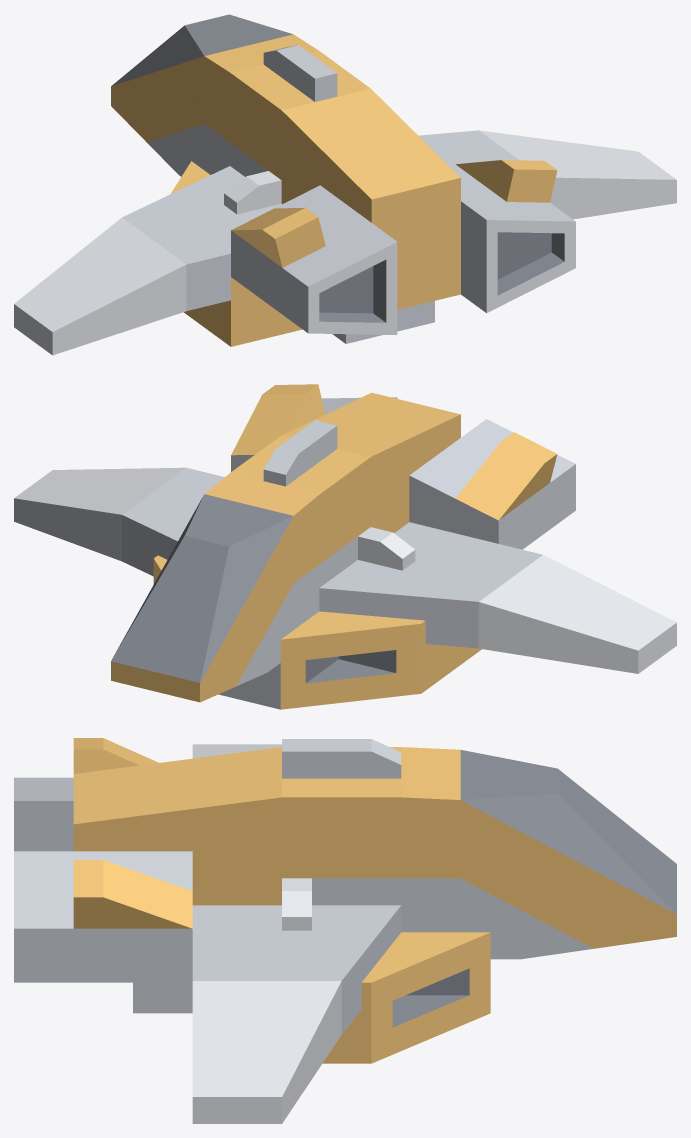
The model's file is kenney_viper.glb.
3 views of the same model, one above another, from view 1: azimuth 30°, elevation 25°; view 2: azimuth 150°, elevation 25°; view 3: azimuth 270°, elevation 25° (orthographic). The views are drawn at different scales.
Visible parts, largest first — view 1: craft_speederD; view 2: craft_speederD; view 3: craft_speederD.
Boxes of the visible parts, left/top/right/bottom form: craft_speederD: left=14, top=14, right=676, bottom=355; craft_speederD: left=14, top=384, right=676, bottom=709; craft_speederD: left=14, top=738, right=676, bottom=1123.
Size of the model in its own units: 2.8 by 0.9 by 2.23.
